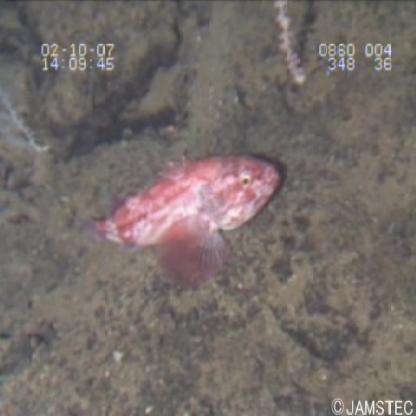Bio: (69, 146, 289, 300)
